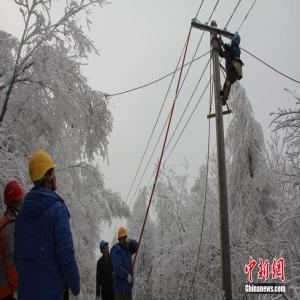blue: (99, 241, 111, 258), (231, 32, 242, 49)
red: (4, 182, 25, 212)
yellow: (29, 149, 60, 193), (118, 227, 130, 248)
